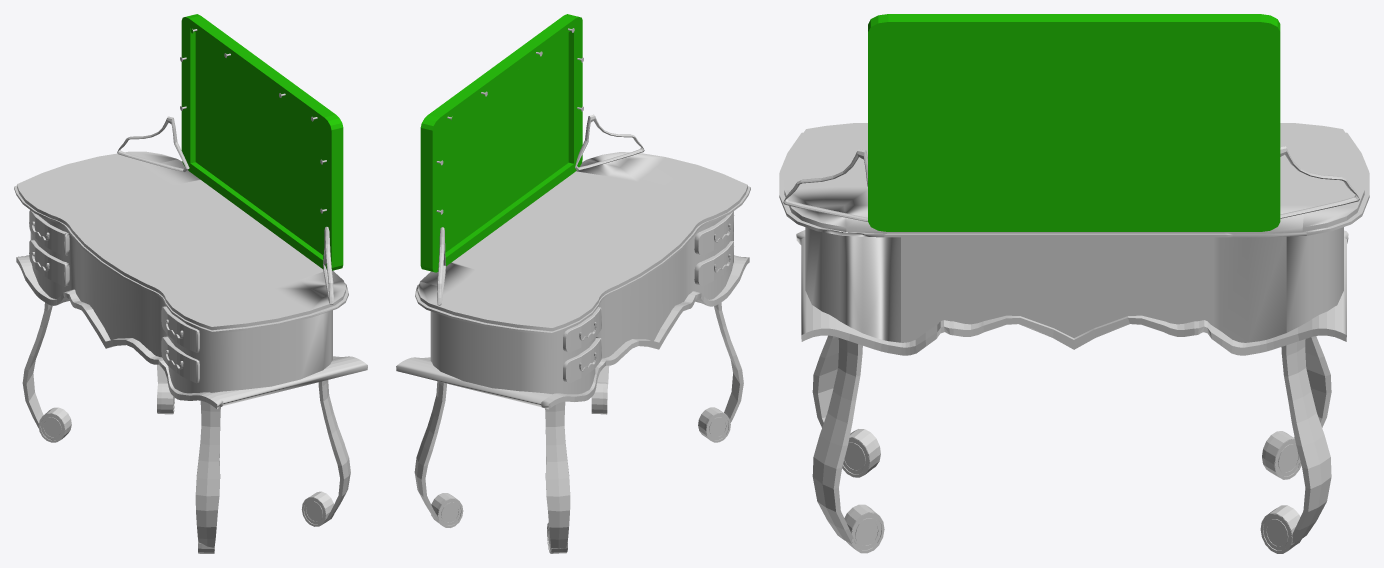
Rendered from f_table.fbx.
3 renders of one model, left to right at view 1: azimuth 30°, elevation 25°; view 2: azimuth 150°, elevation 25°; view 3: azimuth 270°, elevation 25°, orthographic. The views are drawn at different scales.
Parts seen in each view (by area): view 1: Plane; view 2: Plane; view 3: Plane.
Part boxes in pixels (x1,y1,x2,y2): Plane: (14, 14, 367, 553); Plane: (396, 14, 750, 553); Plane: (779, 14, 1369, 553).
Size of the model in its own units: 124 by 281 by 276.
